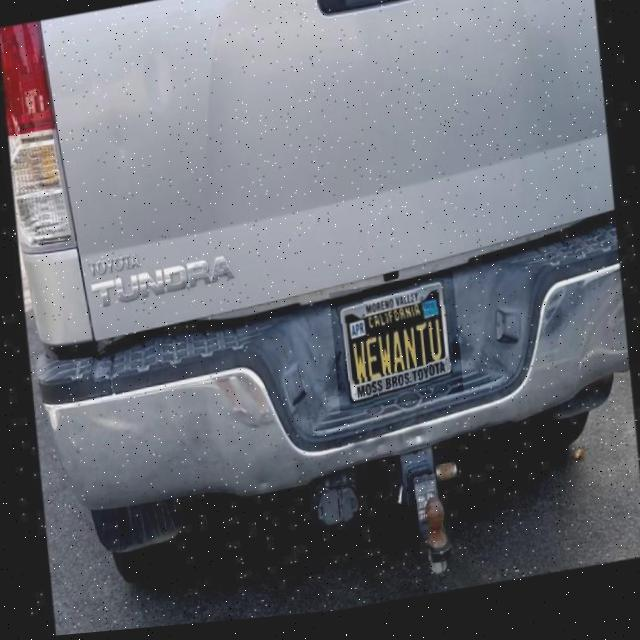LicensePlate: (328, 279, 463, 420)
